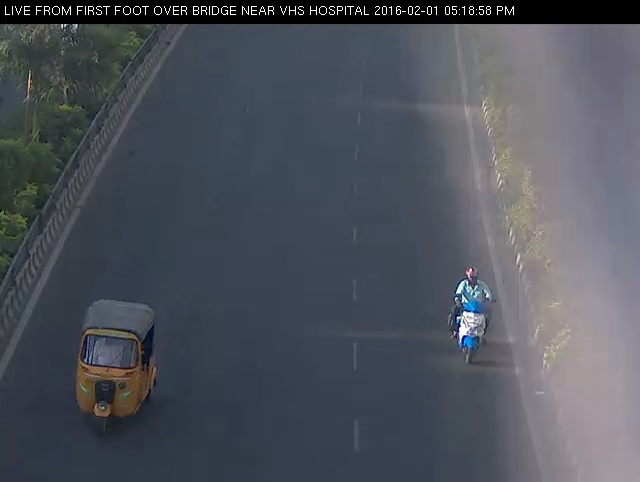Auto: (68, 295, 166, 441)
Person: (441, 259, 499, 371)
